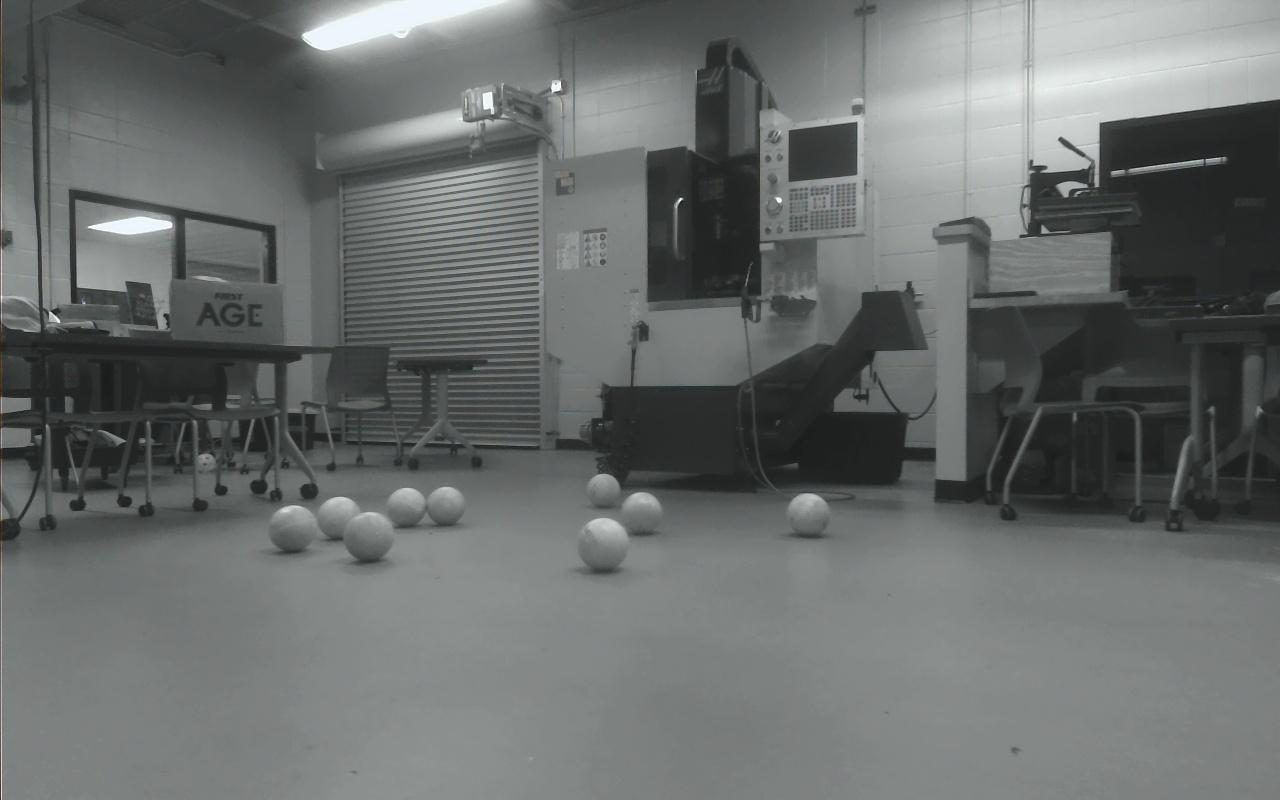Fuel: (577, 518, 630, 572), (343, 511, 394, 562), (268, 505, 316, 552), (786, 493, 831, 538), (317, 497, 361, 540), (621, 492, 663, 535), (425, 486, 465, 526), (387, 487, 426, 527), (586, 474, 621, 509)
